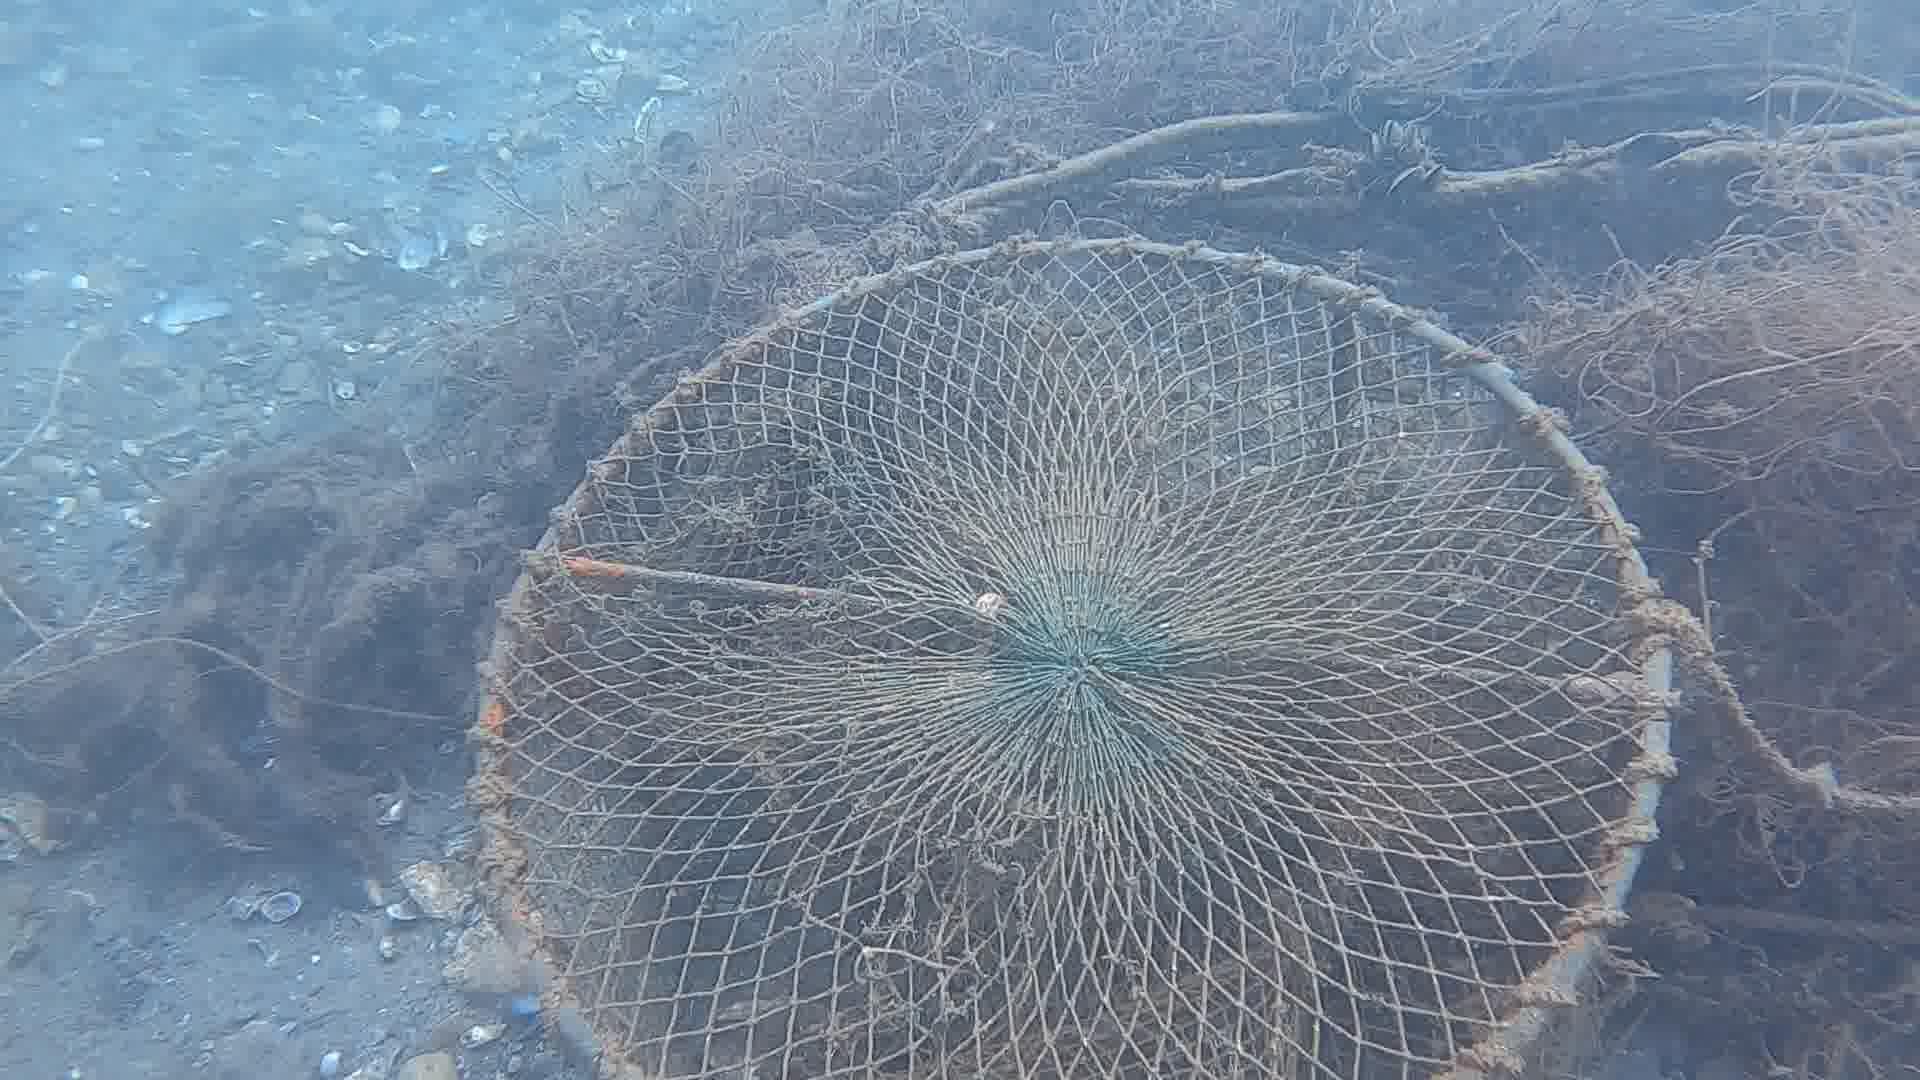circular fish trap: (465, 237, 1673, 1080)
